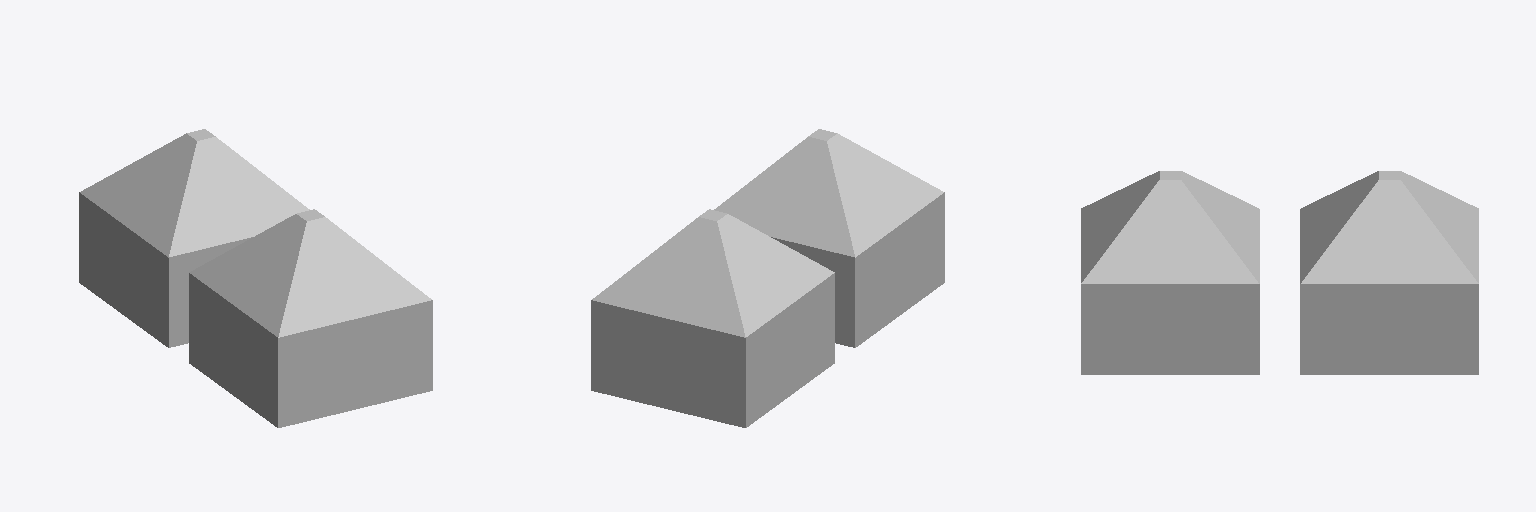
File: 2 House.obj
3 renders of one model, left to right at view 1: azimuth 30°, elevation 25°; view 2: azimuth 150°, elevation 25°; view 3: azimuth 270°, elevation 25°, orthographic.
Visible parts, largest first — view 1: Cube, Cube.001; view 2: Cube.001, Cube; view 3: Cube, Cube.001.
Part boxes in pixels (left/top/right/bottom): Cube: left=189, top=209, right=432, bottom=427; Cube.001: left=79, top=129, right=309, bottom=347; Cube.001: left=591, top=209, right=834, bottom=427; Cube: left=714, top=129, right=944, bottom=347; Cube: left=1081, top=171, right=1259, bottom=374; Cube.001: left=1300, top=171, right=1478, bottom=374.
Size of the model in its own units: 2 by 2 by 4.46.